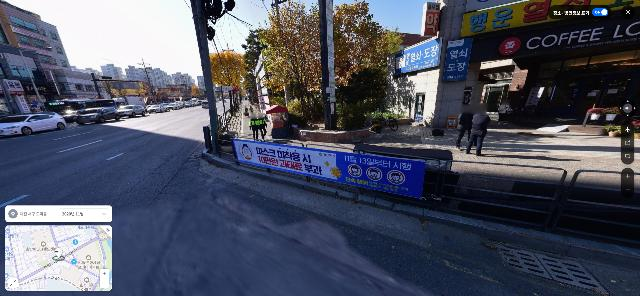ginkgo: (209, 51, 250, 113)
other: (252, 12, 322, 130), (333, 11, 393, 113)
